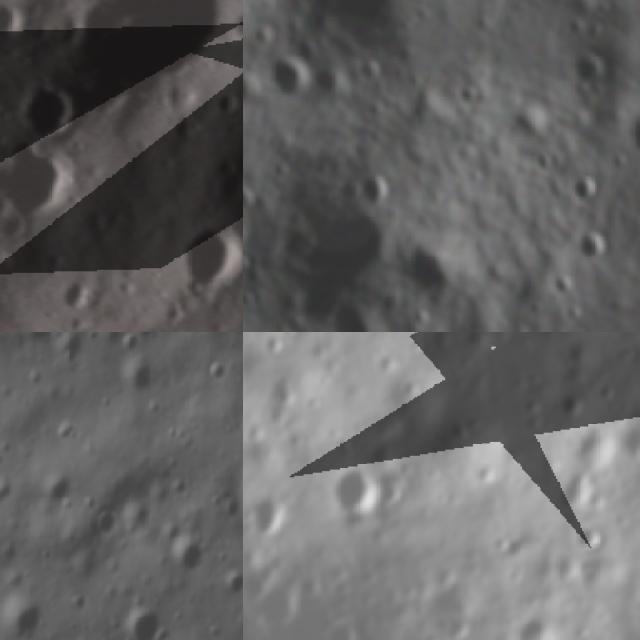crater: (40, 0, 243, 158), (0, 120, 87, 251), (157, 200, 243, 323), (293, 210, 398, 296), (0, 68, 93, 160), (288, 0, 414, 55), (209, 421, 243, 552), (404, 239, 462, 312), (324, 457, 388, 522), (153, 530, 217, 591), (113, 348, 172, 404), (105, 593, 168, 640), (0, 587, 52, 640), (52, 270, 104, 320), (78, 498, 132, 546), (42, 332, 91, 379), (303, 62, 351, 109), (263, 56, 308, 106), (202, 83, 243, 137), (0, 0, 37, 56), (34, 464, 73, 512), (353, 170, 395, 210), (327, 304, 378, 332), (574, 230, 611, 268), (567, 520, 605, 556), (570, 174, 606, 207), (623, 105, 640, 167), (243, 67, 258, 108), (243, 185, 256, 211)
